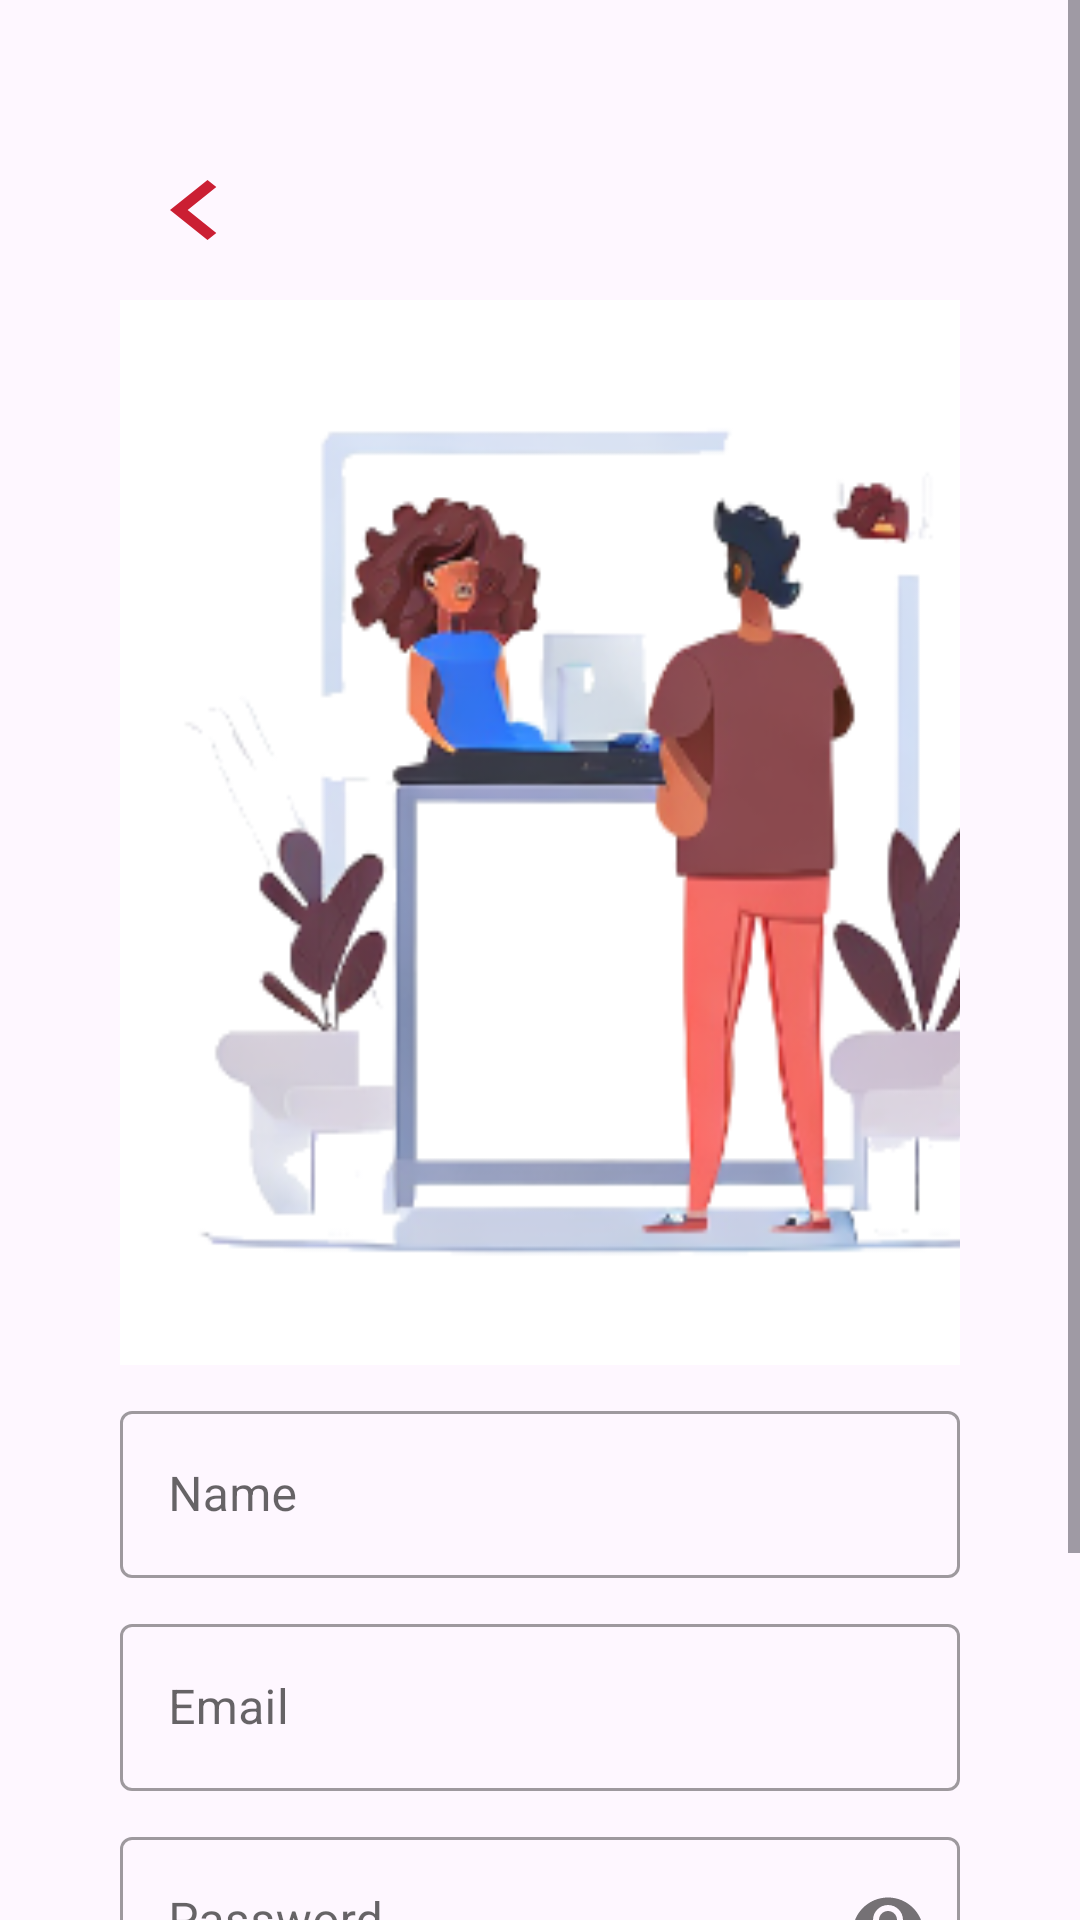

Icons on this 1080 x 1920 Android screen, each with its box as (x1, y1, x2, y2):
chevron left: (170, 180, 216, 240)
